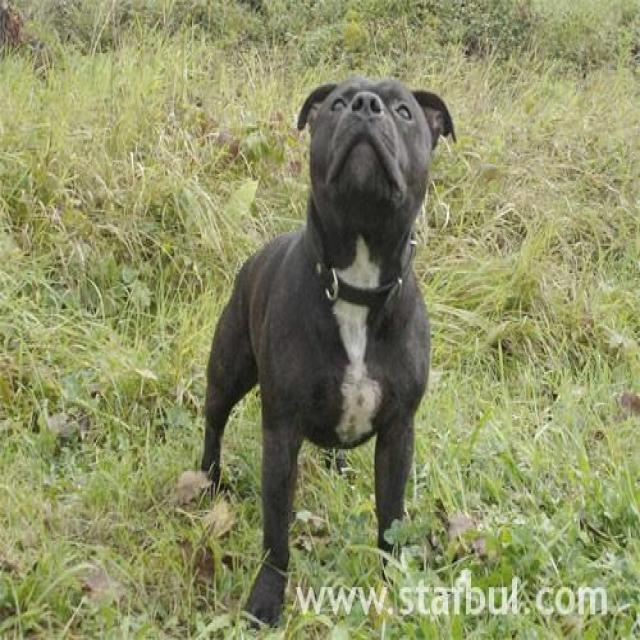staffordshire_bullterrier: (200, 86, 456, 634)
